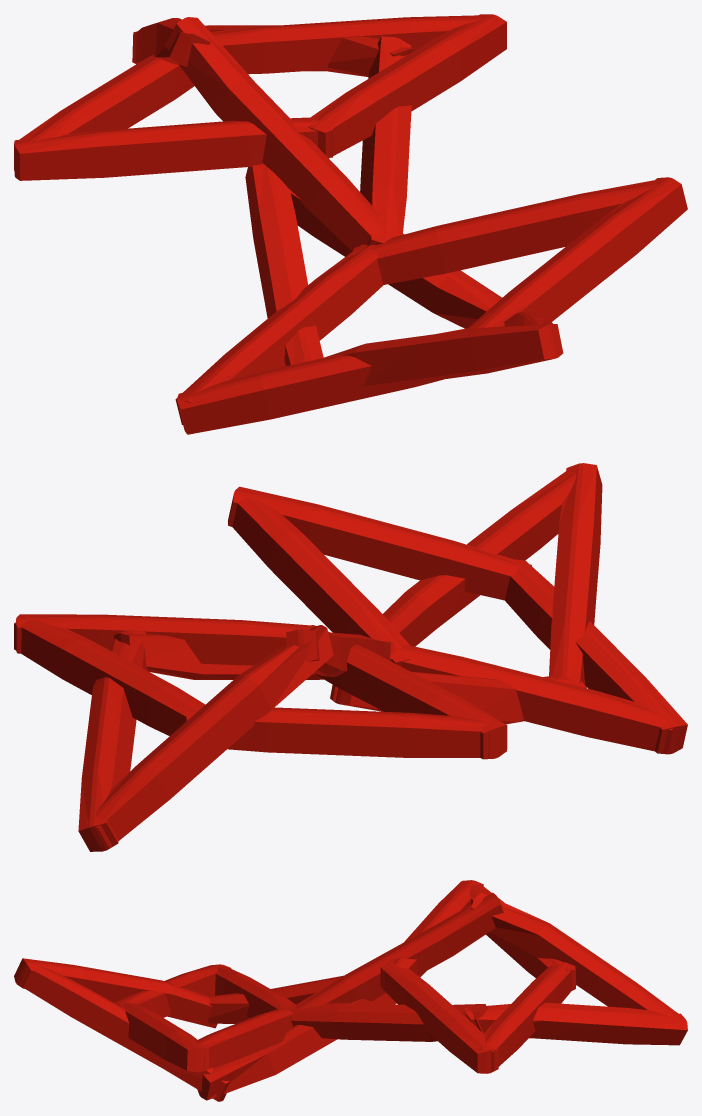
File: kapan soyut.FBX
3 views of the same model, one above another, from view 1: azimuth 30°, elevation 25°; view 2: azimuth 150°, elevation 25°; view 3: azimuth 270°, elevation 25° (orthographic). The views are drawn at different scales.
Parts seen in each view (by area): view 1: Plane73, Plane75, Plane77, Plane72; view 2: Plane73, Plane75, Plane77, Plane72; view 3: Plane77, Plane72, Plane75, Plane73.
Boxes of the visible parts, bbox=[...] form: Plane73: bbox=[175, 177, 687, 434]; Plane75: bbox=[14, 14, 506, 180]; Plane77: bbox=[132, 17, 414, 251]; Plane72: bbox=[245, 164, 563, 386]; Plane73: bbox=[228, 486, 687, 754]; Plane75: bbox=[14, 614, 507, 759]; Plane77: bbox=[78, 625, 394, 851]; Plane72: bbox=[330, 463, 602, 724]; Plane77: bbox=[288, 892, 687, 1045]; Plane72: bbox=[14, 958, 396, 1101]; Plane75: bbox=[380, 880, 576, 1073]; Plane73: bbox=[114, 964, 294, 1072].
Bounding box in the file's own units: 69.75 × 29.18 × 111.
